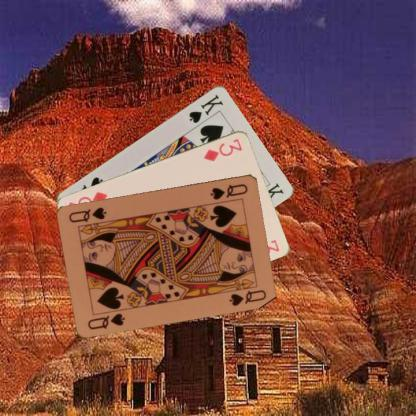3d: (201, 136, 243, 162)
Ks: (186, 92, 225, 124)
Qs: (208, 181, 249, 201), (85, 310, 126, 330)
